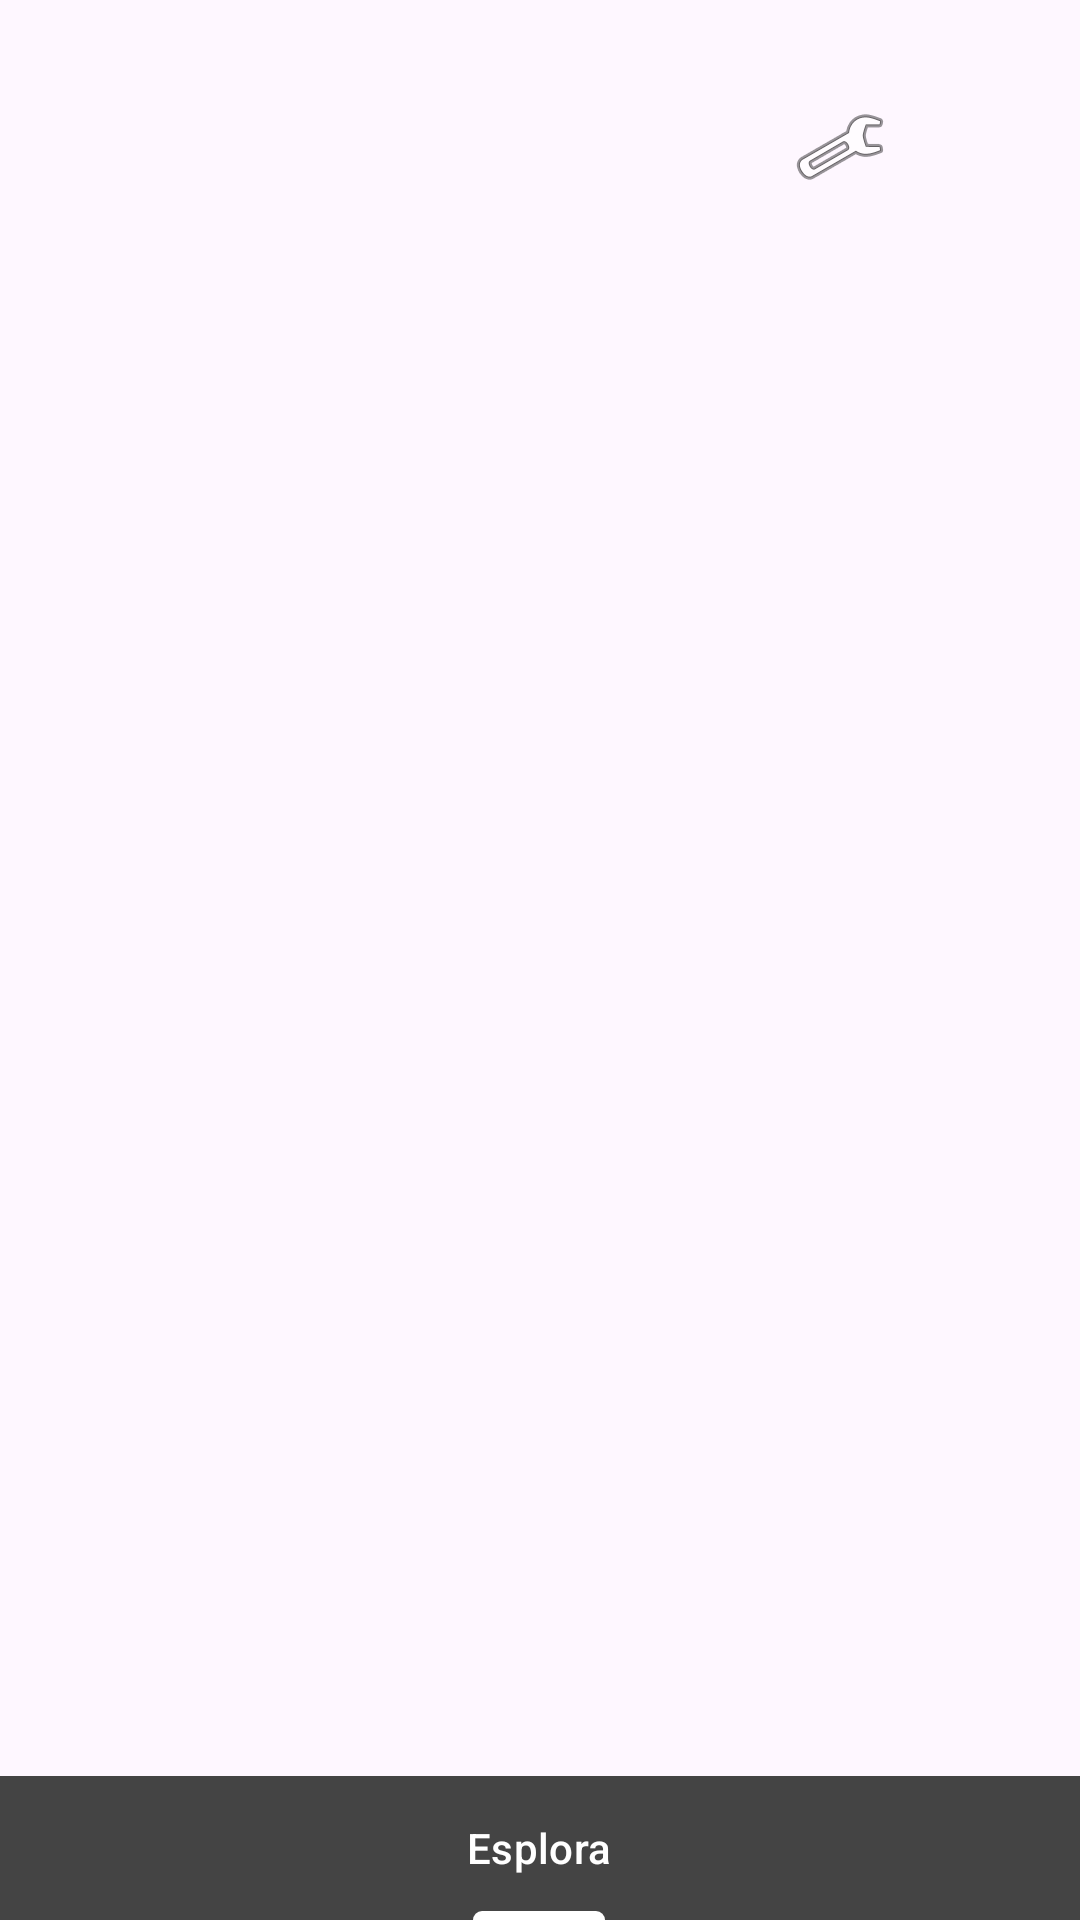

Where to tap for icons on this 1080px x 1920px app screen, as [x,y]:
Impostazioni: [840,147]
